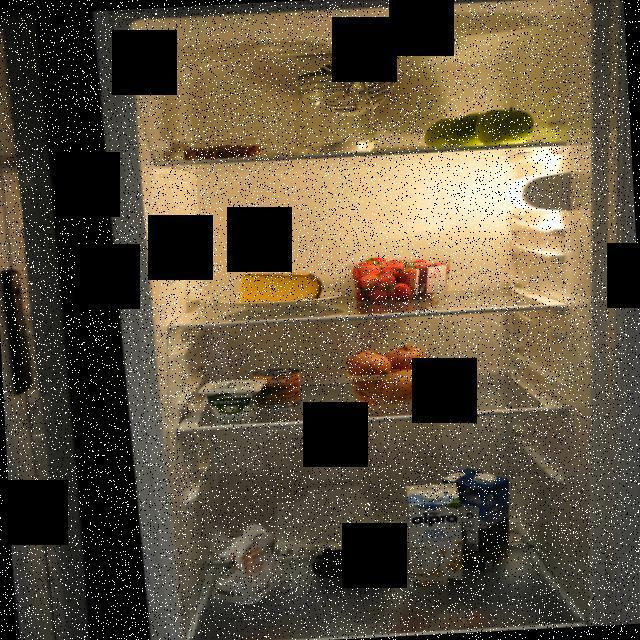apple: (419, 104, 537, 150)
blueberries: (312, 536, 394, 584)
cheese: (238, 266, 328, 310)
corn: (250, 367, 306, 416)
flour: (286, 68, 383, 158), (210, 521, 292, 610)
goat_cheese: (199, 378, 261, 422)
milk: (441, 464, 514, 576), (403, 481, 469, 591)
onion: (343, 343, 428, 403)
shrimp: (180, 136, 267, 163)
strawberries: (346, 254, 461, 306)
